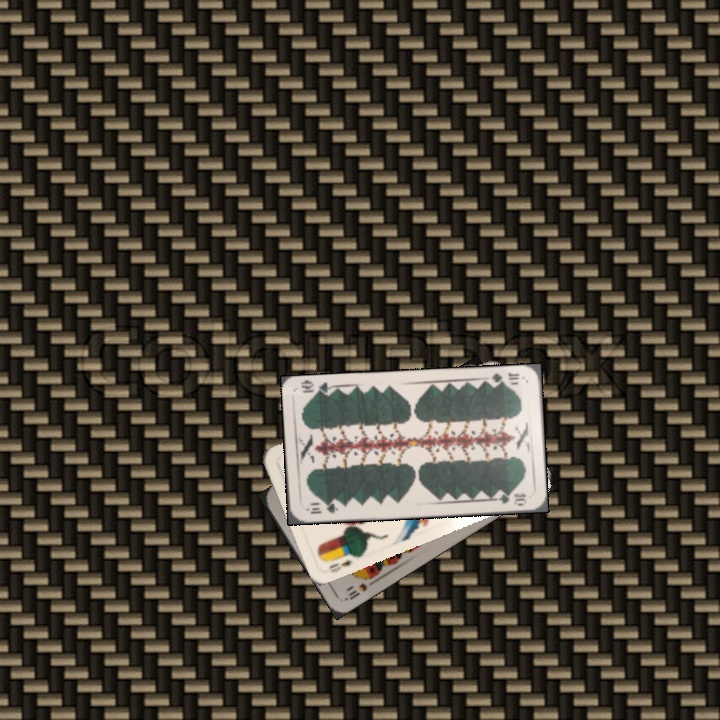EO: (321, 549, 360, 575)
G10: (302, 498, 341, 516), (487, 368, 522, 388)
S10: (341, 573, 378, 603)
